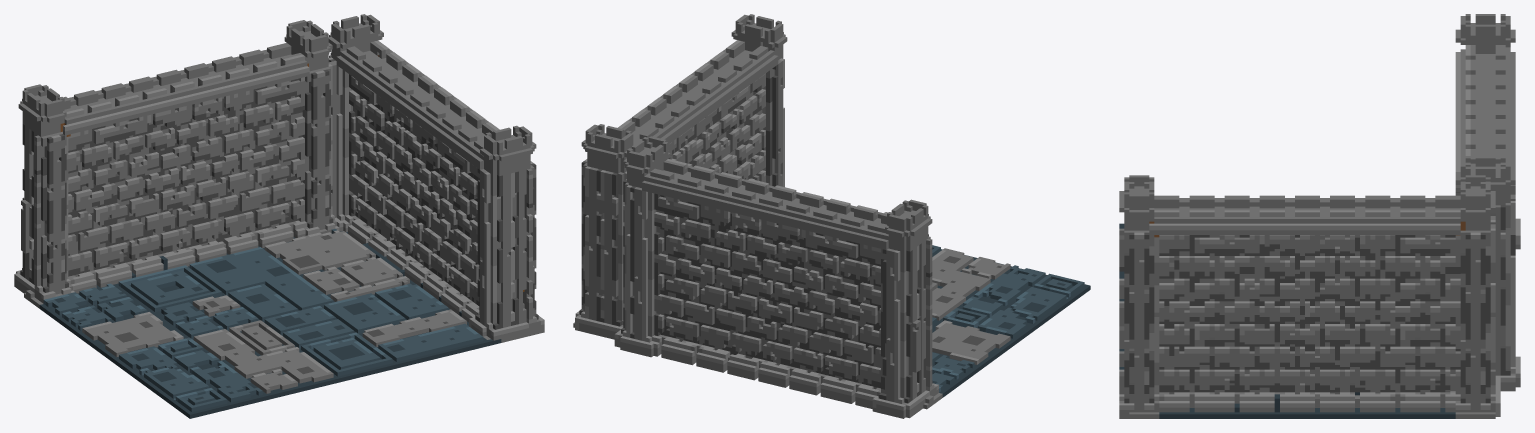
File: wall_E_esquina_arriba_derecha_real.obj
3 views of the same model, side by side, from view 1: azimuth 30°, elevation 25°; view 2: azimuth 150°, elevation 25°; view 3: azimuth 270°, elevation 25° (orthographic). The views are drawn at different scales.
Size of the model in its own units: 90 by 48 by 80.
Materials: 1 (1 with a texture image).
